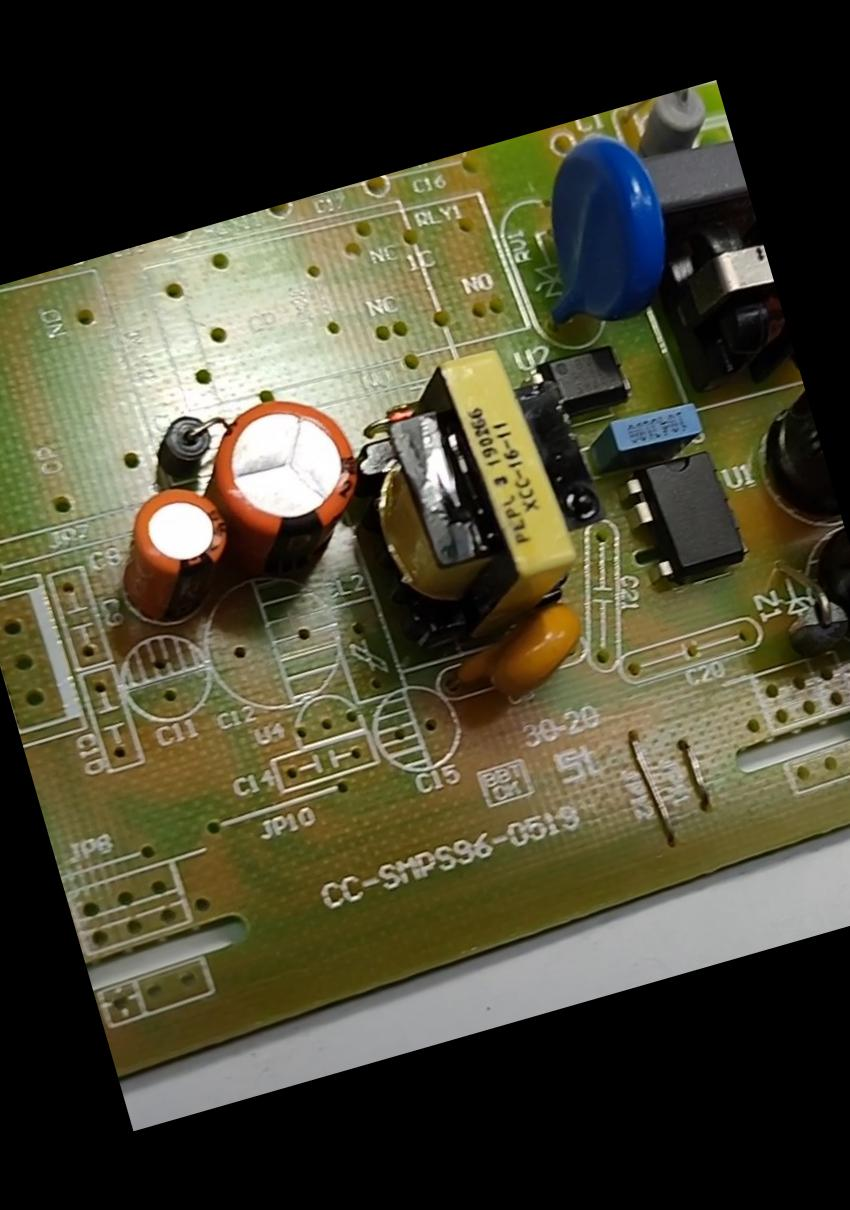Cap1: (192, 385, 382, 607)
Cap2: (100, 479, 240, 624)
Cap3: (724, 348, 834, 514)
Cap4: (784, 482, 849, 669)
MOSFET: (620, 438, 756, 589)
Mov: (505, 119, 690, 334)
Resistor: (630, 84, 718, 157)
Transformer: (335, 334, 612, 662), (662, 217, 792, 371)
